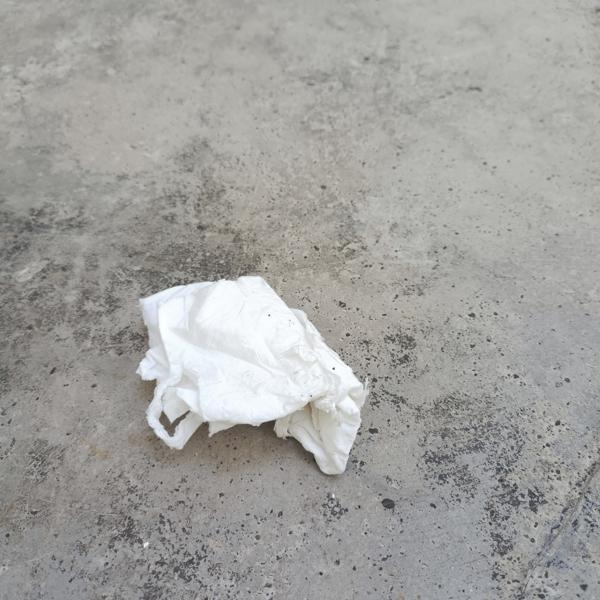Organik: (113, 267, 377, 459)
